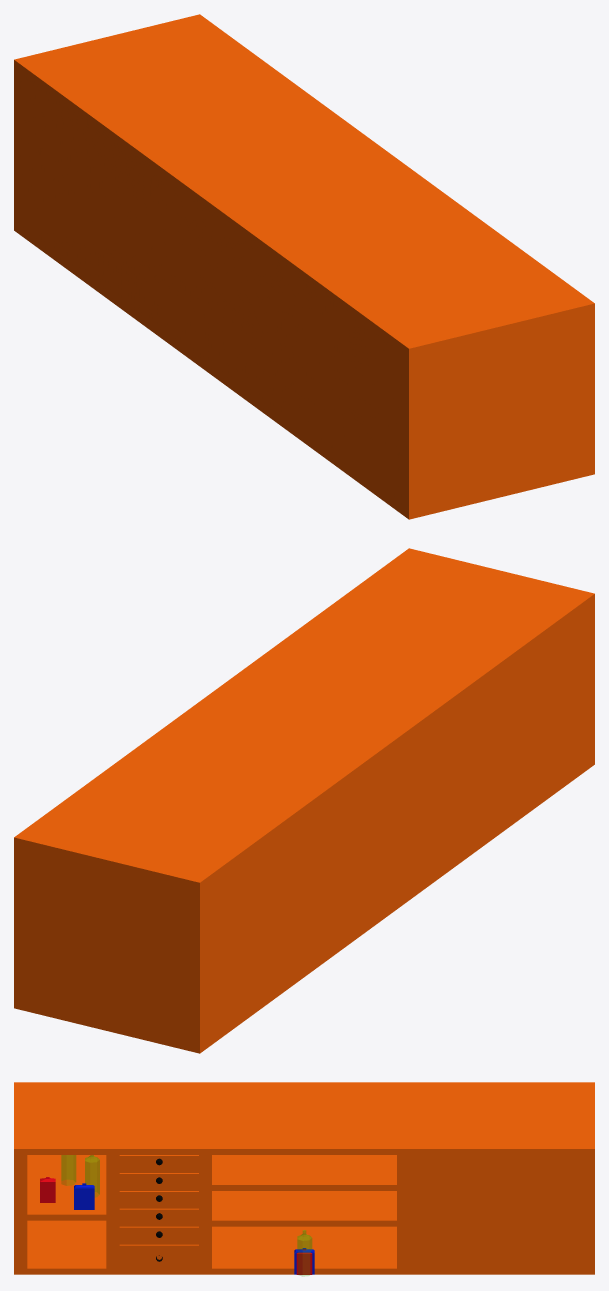
File: Bar.glb
3 renders of one model, top to bottom at view 1: azimuth 30°, elevation 25°; view 2: azimuth 150°, elevation 25°; view 3: azimuth 270°, elevation 25°, orthographic. The views are drawn at different scales.
Visible parts, largest first — view 1: bar; view 2: bar; view 3: bar, bouteille1, bouteille3.001, bouteille1.001, bouteille1.002, bouteille2.001, bouteille2.
Boxes of the visible parts, <box> form: bar: <box>14,14,594,519</box>; bar: <box>14,548,594,1053</box>; bar: <box>14,1082,594,1274</box>; bouteille1: <box>297,1230,311,1276</box>; bouteille3.001: <box>74,1183,94,1209</box>; bouteille1.001: <box>85,1155,99,1197</box>; bouteille1.002: <box>61,1155,75,1185</box>; bouteille2.001: <box>40,1177,55,1202</box>; bouteille2: <box>296,1249,312,1274</box>.
Size of the model in its own units: 20.98 by 17.56 by 73.6.
